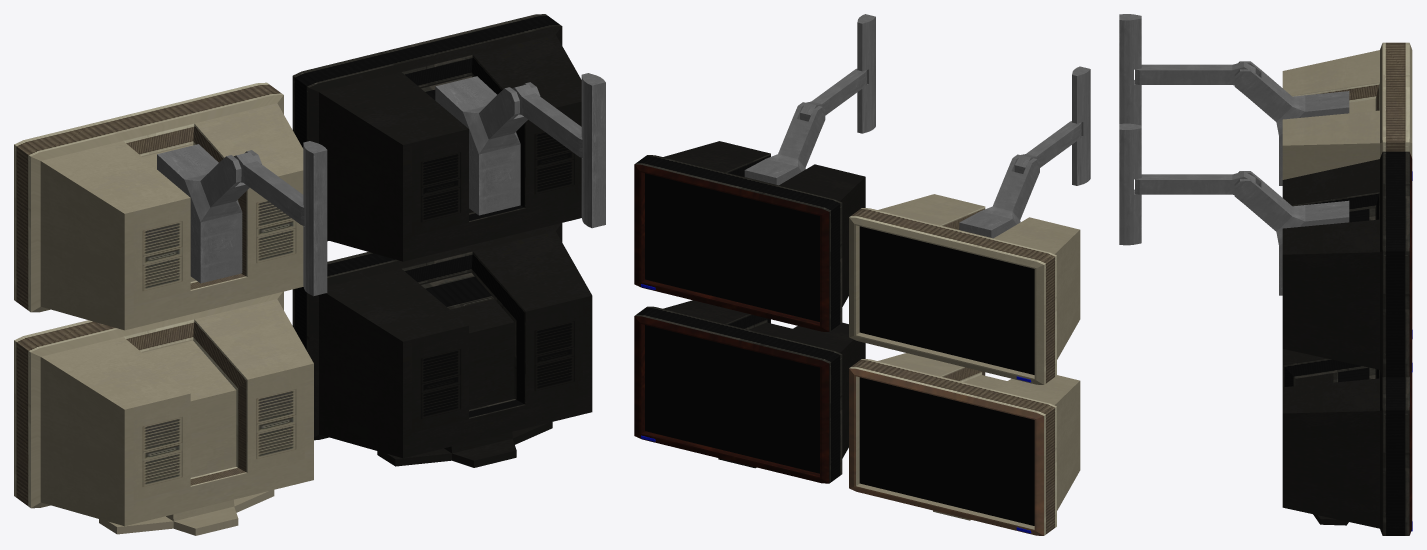
Rendered from computerScreen01.obj.
3 renders of one model, left to right at view 1: azimuth 30°, elevation 25°; view 2: azimuth 150°, elevation 25°; view 3: azimuth 270°, elevation 25°, orthographic. The views are drawn at different scales.
Parts seen in each view (by area): view 1: Screen01_Cube.001, Screen03_Cube.002, Screen02_Cube, Screen03.001_Cube.009, CubeMonitorArm01_Cube.003, CubeMonitorArm01.001_Cube.010, CubeMonitorArm03_Cube.008, CubeMonitorArm03.001_Cube.012, CubeMonitorArm02_Cube.007, CubeMonitorArm02.001_Cube.011; view 2: Screen02_Cube, Screen01_Cube.001, Screen03.001_Cube.009, Screen03_Cube.002, CubeMonitorArm01_Cube.003, CubeMonitorArm01.001_Cube.010, CubeMonitorArm03_Cube.008, CubeMonitorArm03.001_Cube.012, CubeMonitorArm02_Cube.007, CubeMonitorArm02.001_Cube.011; view 3: Screen03.001_Cube.009, Screen03_Cube.002, Screen02_Cube, CubeMonitorArm01_Cube.003, CubeMonitorArm01.001_Cube.010, CubeMonitorArm03.001_Cube.012, CubeMonitorArm03_Cube.008, CubeMonitorArm02_Cube.007, CubeMonitorArm02.001_Cube.011.
Part boxes in pixels (x1=…): Screen01_Cube.001: x1=14, y1=291, x2=313, y2=535; Screen03_Cube.002: x1=292, y1=223, x2=592, y2=467; Screen02_Cube: x1=14, y1=82, x2=303, y2=330; Screen03.001_Cube.009: x1=292, y1=14, x2=581, y2=261; CubeMonitorArm01_Cube.003: x1=157, y1=144, x2=261, y2=283; CubeMonitorArm01.001_Cube.010: x1=435, y1=76, x2=540, y2=215; CubeMonitorArm03_Cube.008: x1=303, y1=141, x2=327, y2=296; CubeMonitorArm03.001_Cube.012: x1=581, y1=73, x2=605, y2=228; CubeMonitorArm02_Cube.007: x1=234, y1=152, x2=304, y2=225; CubeMonitorArm02.001_Cube.011: x1=512, y1=84, x2=582, y2=157; Screen02_Cube: x1=849, y1=194, x2=1080, y2=384; Screen01_Cube.001: x1=849, y1=353, x2=1080, y2=535; Screen03.001_Cube.009: x1=634, y1=141, x2=865, y2=331; Screen03_Cube.002: x1=634, y1=300, x2=865, y2=483; CubeMonitorArm01_Cube.003: x1=959, y1=154, x2=1039, y2=238; CubeMonitorArm01.001_Cube.010: x1=744, y1=102, x2=825, y2=185; CubeMonitorArm03_Cube.008: x1=1072, y1=66, x2=1090, y2=185; CubeMonitorArm03.001_Cube.012: x1=857, y1=14, x2=875, y2=133; CubeMonitorArm02_Cube.007: x1=1014, y1=121, x2=1081, y2=173; CubeMonitorArm02.001_Cube.011: x1=800, y1=68, x2=866, y2=121; Screen03.001_Cube.009: x1=1282, y1=151, x2=1412, y2=377; Screen03_Cube.002: x1=1282, y1=349, x2=1412, y2=535; Screen02_Cube: x1=1282, y1=42, x2=1412, y2=180; CubeMonitorArm01_Cube.003: x1=1234, y1=61, x2=1349, y2=185; CubeMonitorArm01.001_Cube.010: x1=1234, y1=171, x2=1349, y2=295; CubeMonitorArm03.001_Cube.012: x1=1119, y1=123, x2=1141, y2=245; CubeMonitorArm03_Cube.008: x1=1119, y1=14, x2=1141, y2=125; CubeMonitorArm02_Cube.007: x1=1135, y1=61, x2=1255, y2=85; CubeMonitorArm02.001_Cube.011: x1=1135, y1=171, x2=1255, y2=195.
Bounding box in the file's own units: 7.64 × 6.24 × 4.52.
Materials: 8 (6 with a texture image).
